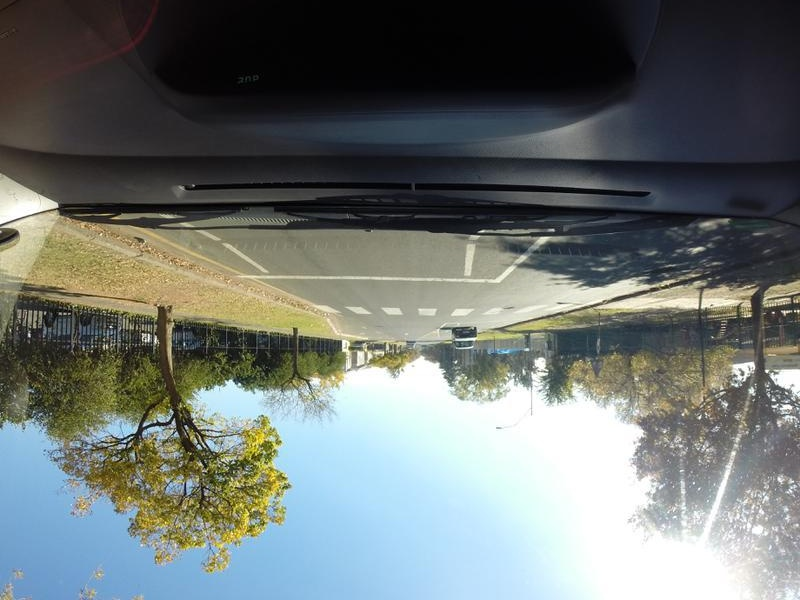pothole: (503, 298, 522, 315)
